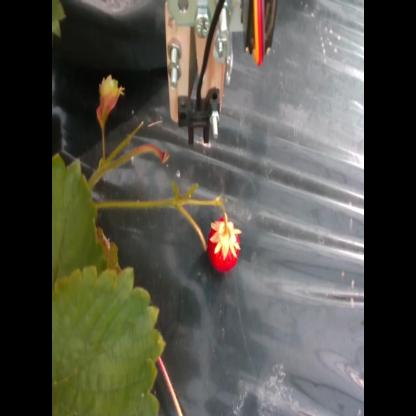ripe: (209, 208, 248, 274)
